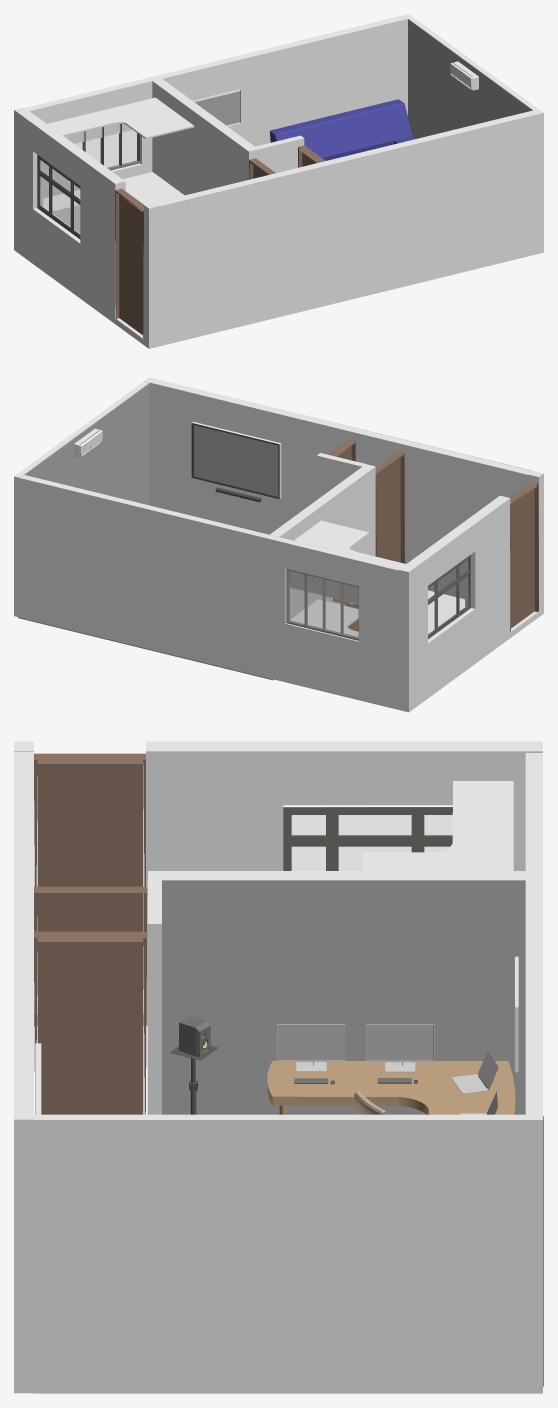
File: radio-booth.glb
The picture shows the model from 3 angles, top to bottom: view 1: azimuth 30°, elevation 25°; view 2: azimuth 150°, elevation 25°; view 3: azimuth 270°, elevation 25°; orthographic projection. The views are drawn at different scales.
Parts seen in each view (by area): view 1: Model, Group1, Window_Gla, Componen09, Group81, window1, Group55; view 2: Model, Window_Gla, Componen09, Group81, window1, Group55; view 3: Model, Group81, window1.
Boxes of the visible parts, x1,y1,x2,y2 form: Model: (14, 14, 543, 348); Group1: (269, 99, 415, 160); Window_Gla: (68, 124, 139, 180); Componen09: (43, 172, 184, 212); Group81: (37, 154, 80, 239); window1: (39, 158, 80, 236); Group55: (450, 61, 478, 90); Model: (14, 377, 543, 712); Window_Gla: (286, 569, 358, 640); Componen09: (290, 599, 358, 636); Group81: (428, 554, 470, 639); window1: (428, 558, 469, 636); Group55: (74, 429, 102, 457); Model: (14, 741, 543, 1393); Group81: (283, 807, 452, 870); window1: (288, 812, 452, 870).
Size of the model in its own units: 9 by 3.17 by 5.34.
